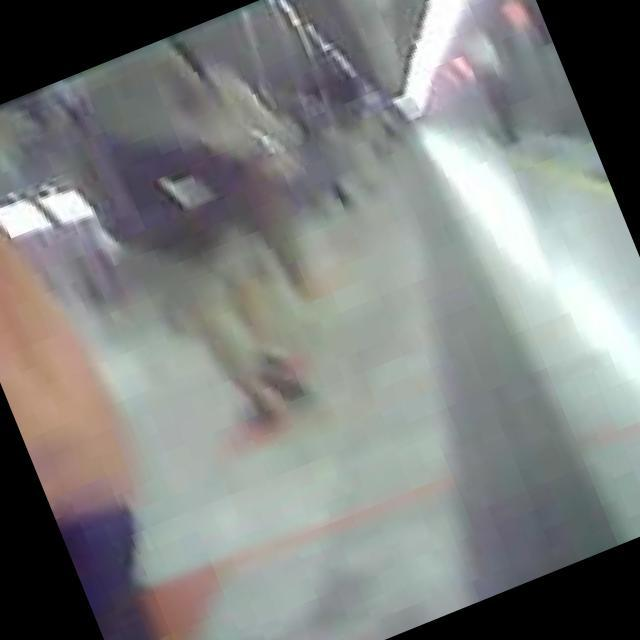person: (0, 104, 242, 640), (22, 47, 310, 456), (148, 12, 339, 319)
